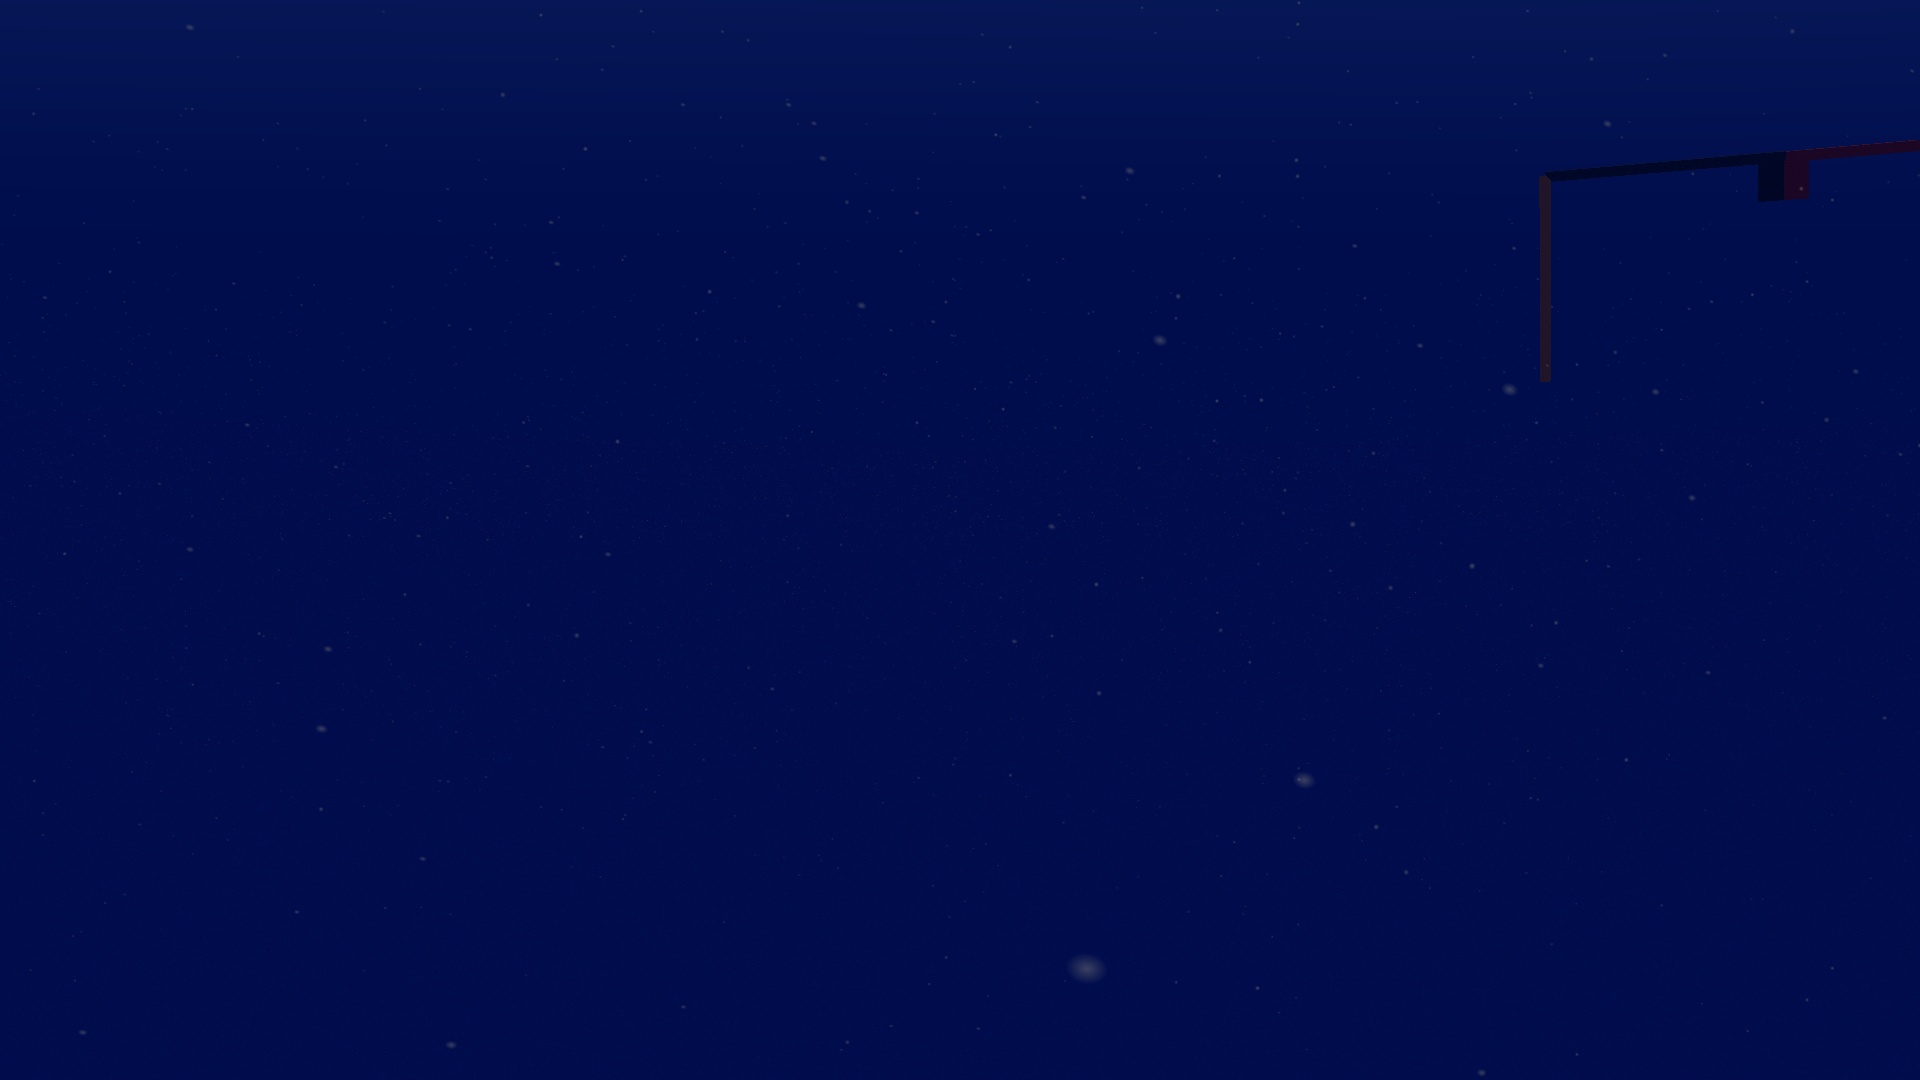Gate: (1528, 133, 1916, 392)
